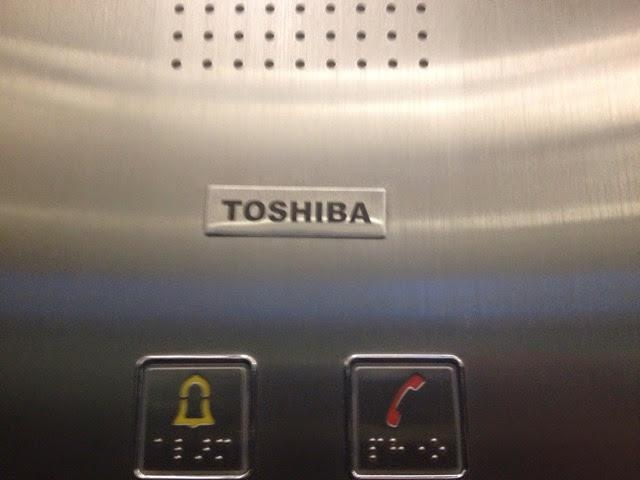alarm: (130, 351, 260, 480)
call: (341, 351, 468, 478)
